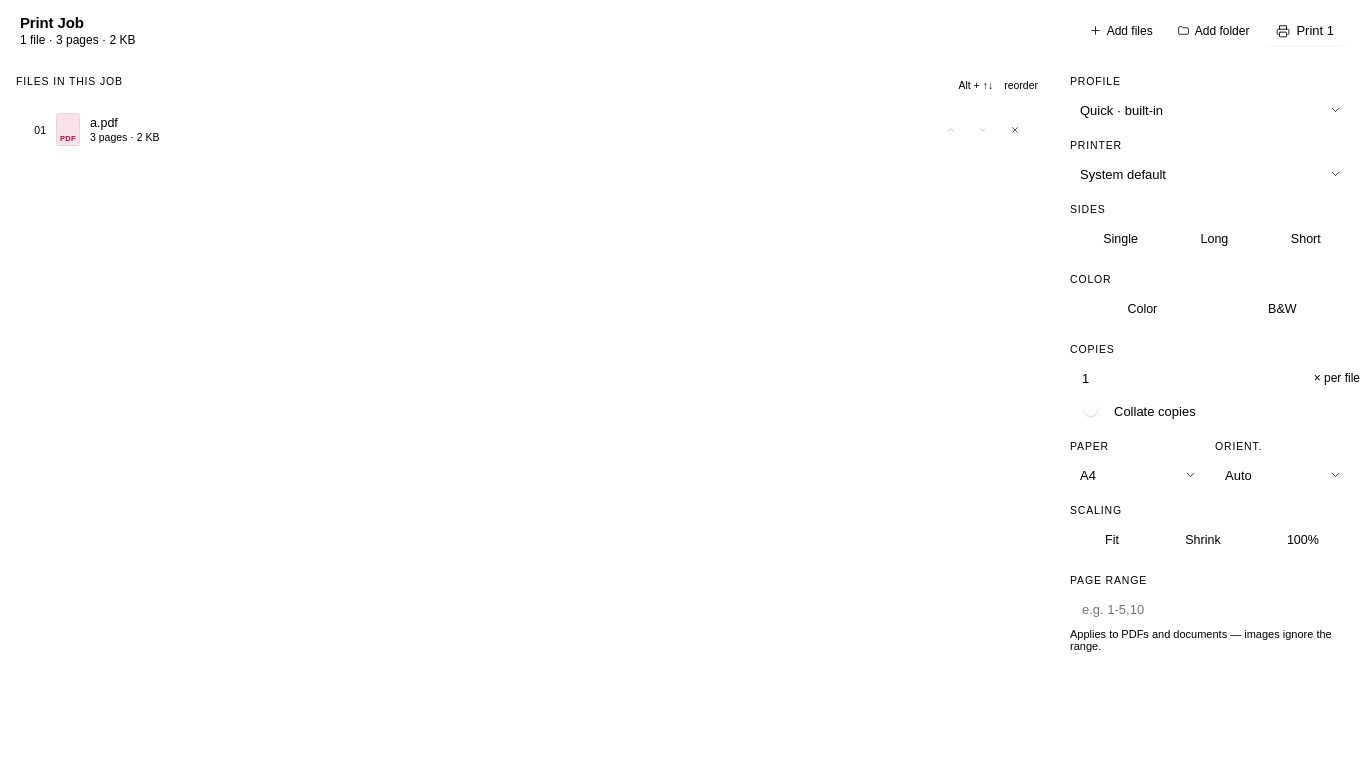
PrintJobScreen › flags out-of-range copies and disables Print
Expected: the button "Print 1" is enabled, left=1264, top=16, right=1346, bottom=46
Replace the text in the number field showing "1" with "0" at (1194, 378), box left=1080, top=362, right=1308, bottom=394
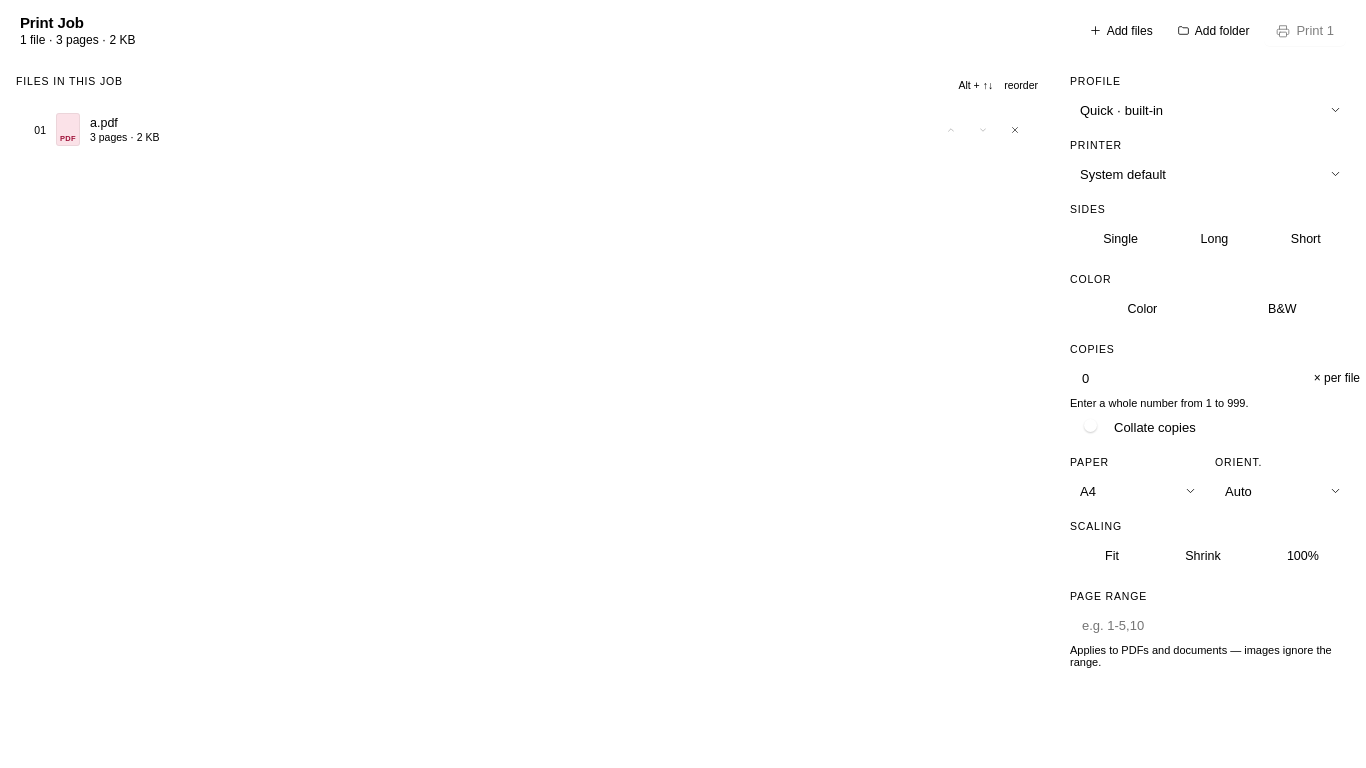
Result: the text "Enter a whole number from 1 to 999." is shown at left=1070, top=397, right=1248, bottom=409
Result: the button "Print 1" is disabled at left=1264, top=16, right=1346, bottom=46
Replace the text in the number field showing "1" with "1000" at (1194, 378), box left=1080, top=362, right=1308, bottom=394
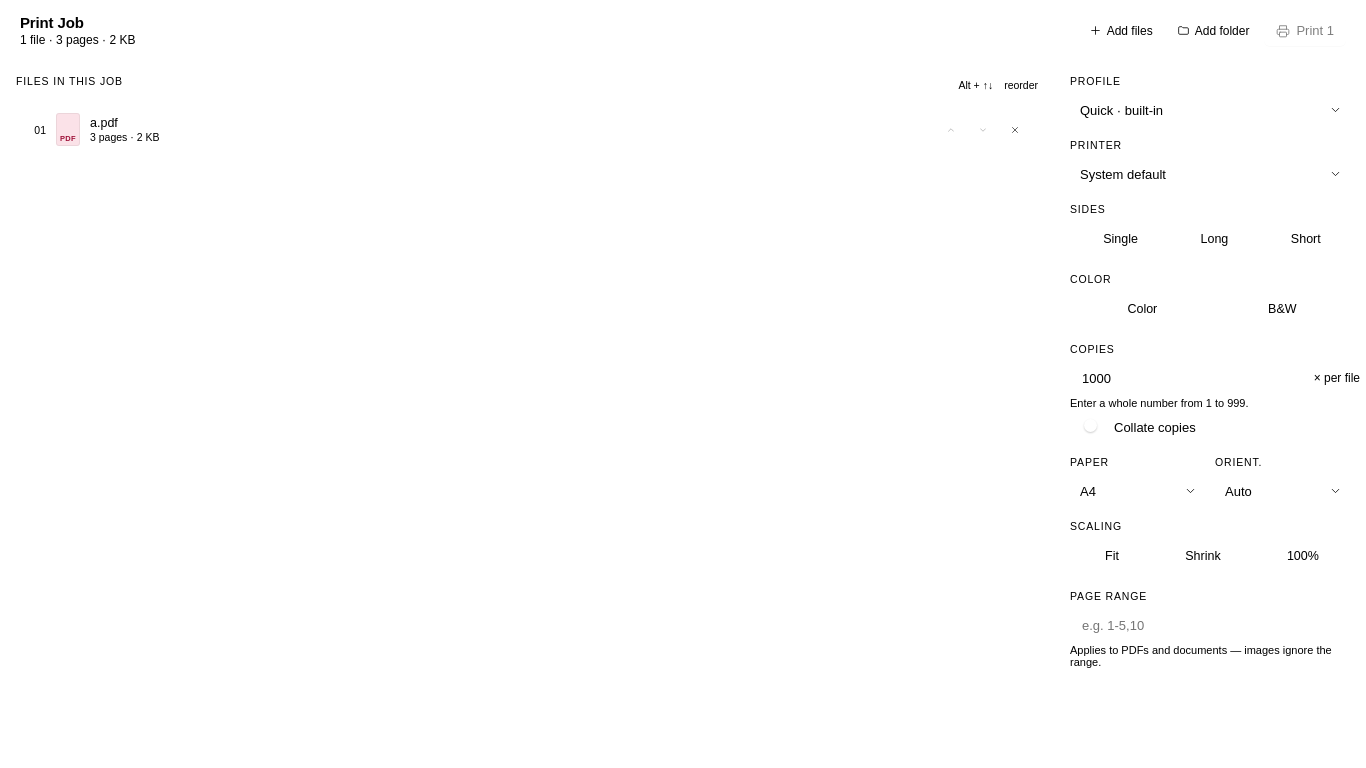
Result: the button "Print 1" is disabled at left=1264, top=16, right=1346, bottom=46
Replace the text in the number field showing "1" with "3" at (1194, 378), box left=1080, top=362, right=1308, bottom=394
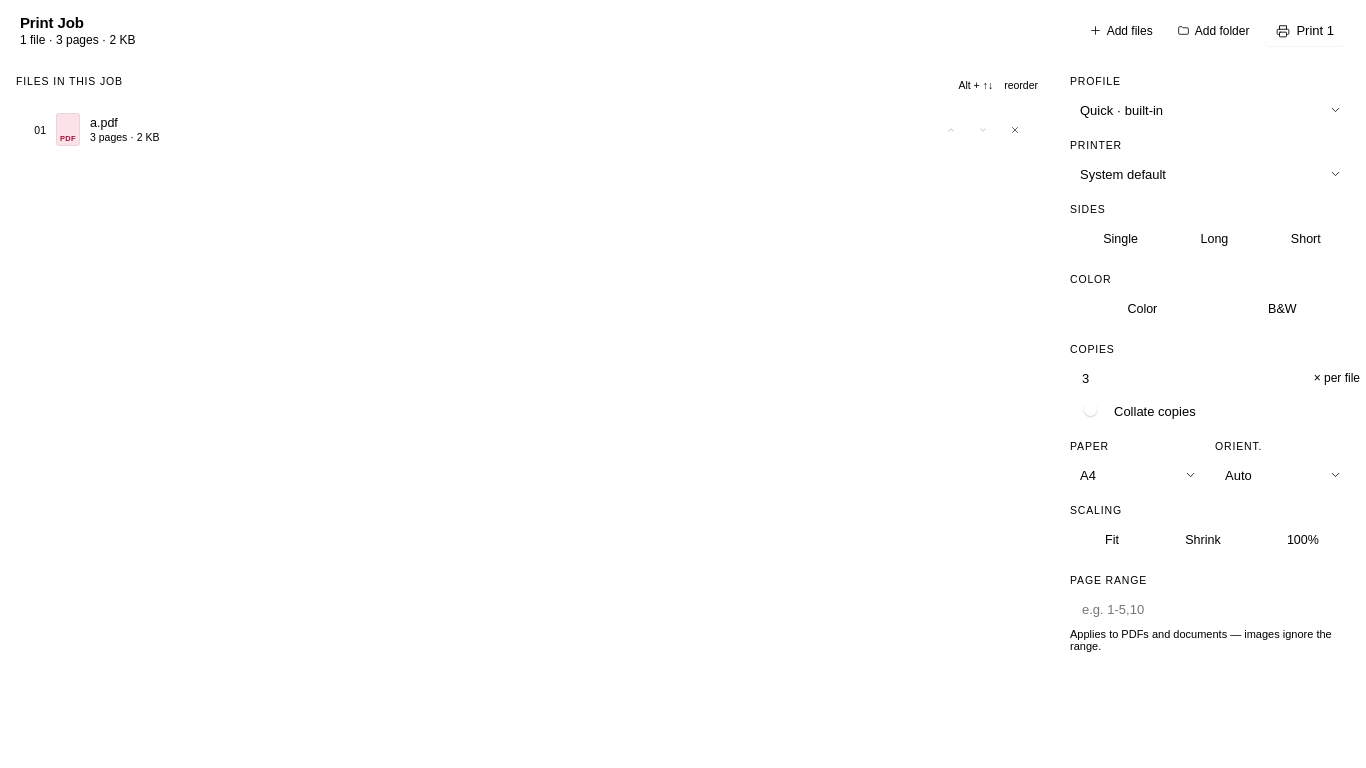
Result: the button "Print 1" is enabled at left=1264, top=16, right=1346, bottom=46
